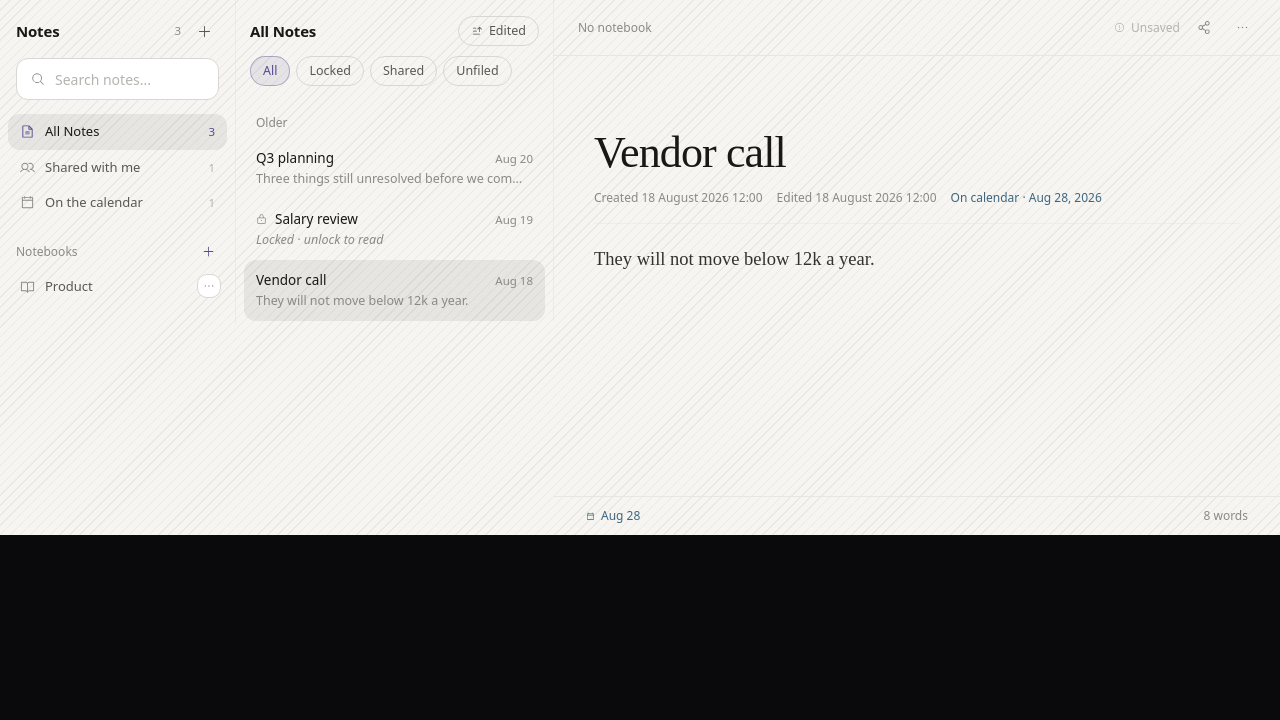
Test: NotesWorkspace › puts the calendar date behind the menu, editable after the note exists
Click the button named "Note actions". click: point(1242, 28)
box: [1228,14,1256,42]
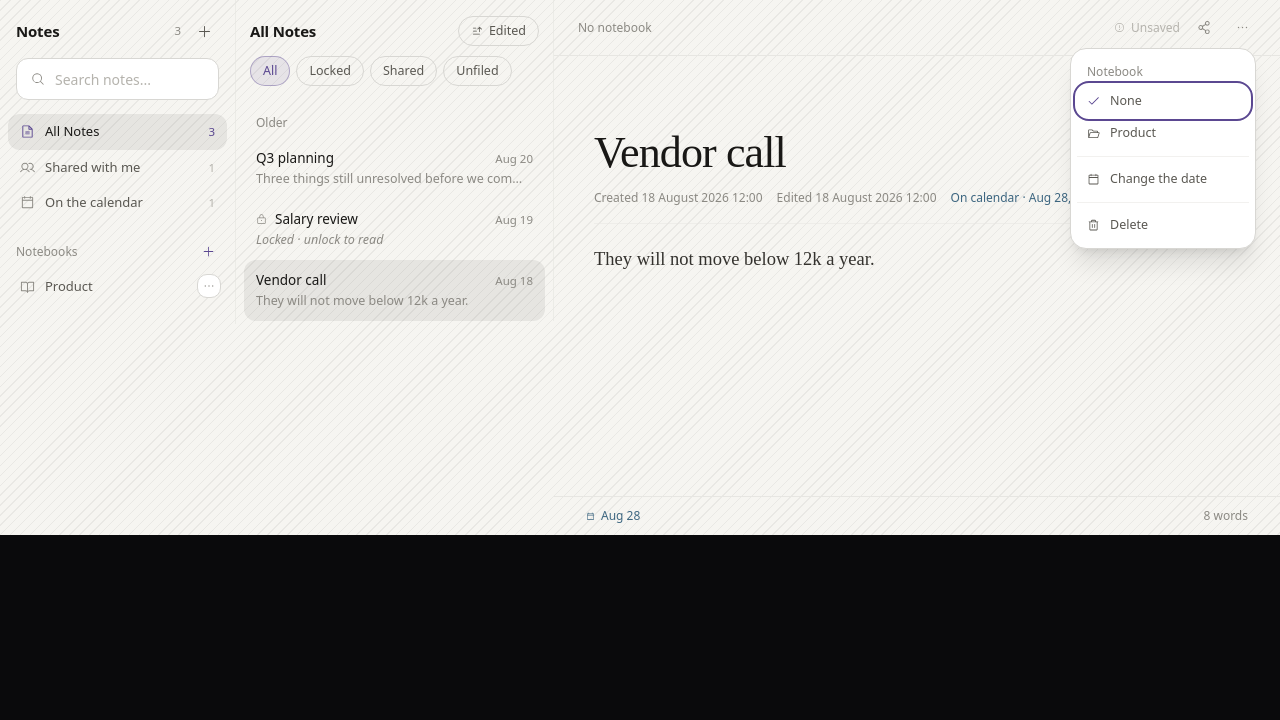
Click the menu item "Change the date". click: point(1163, 179)
box: [1077,163,1249,196]
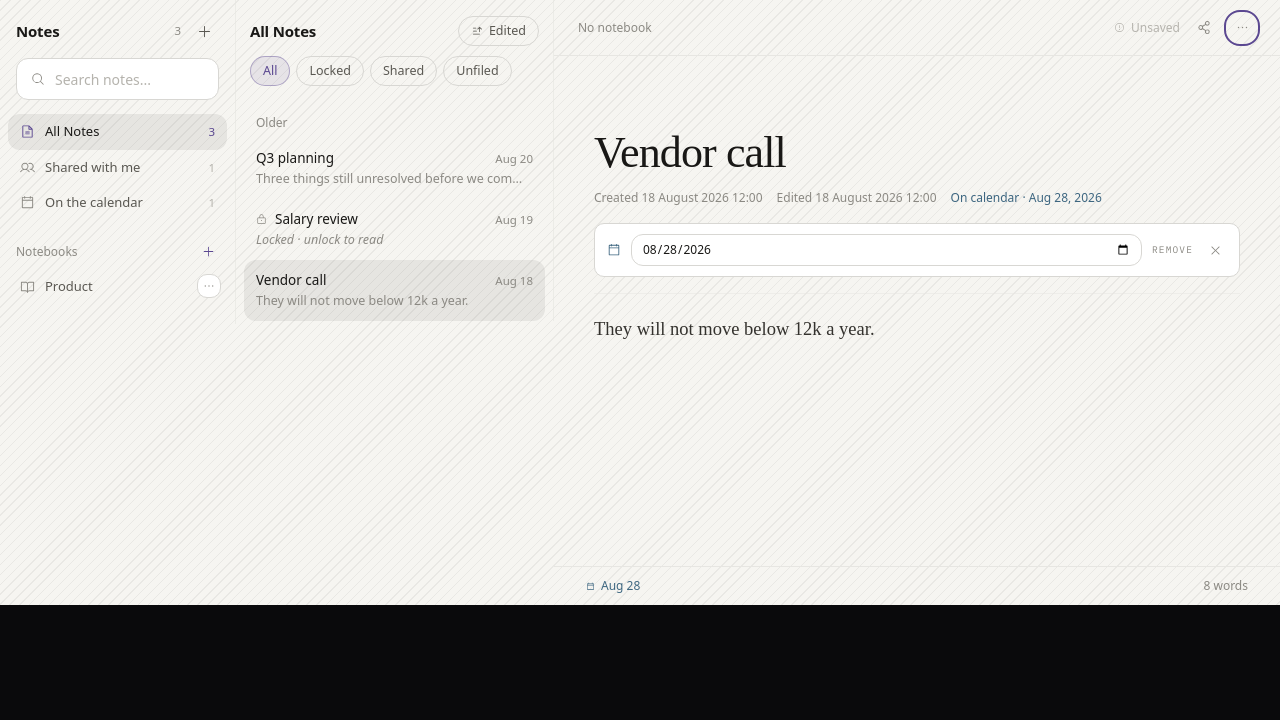
Expected: the date field named "Calendar date" holds "2026-08-28", [631,234,1142,266]
